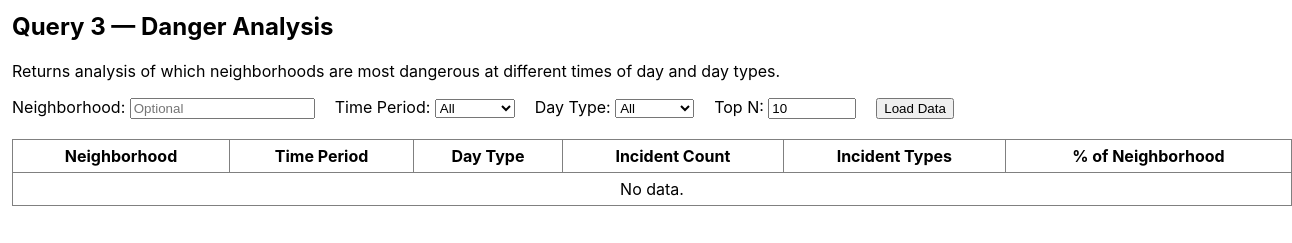
Scenario: Query3 › handles API error gracefully
Click the button "Load Data" at (915, 108), box 876,98 -> 954,119
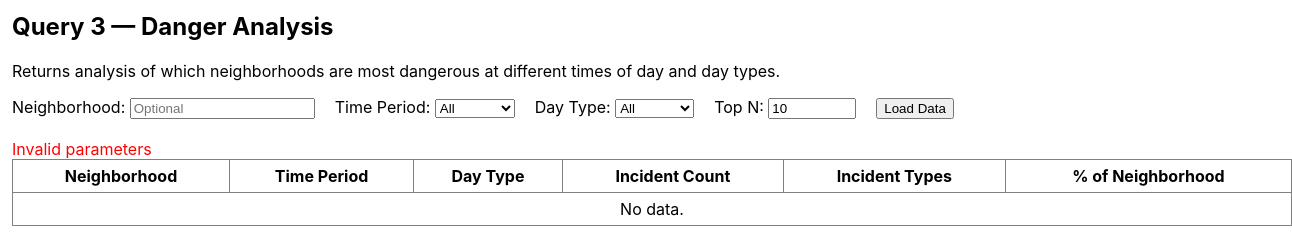
Check: the text "Invalid parameters" is shown, box 12,139 -> 152,159
